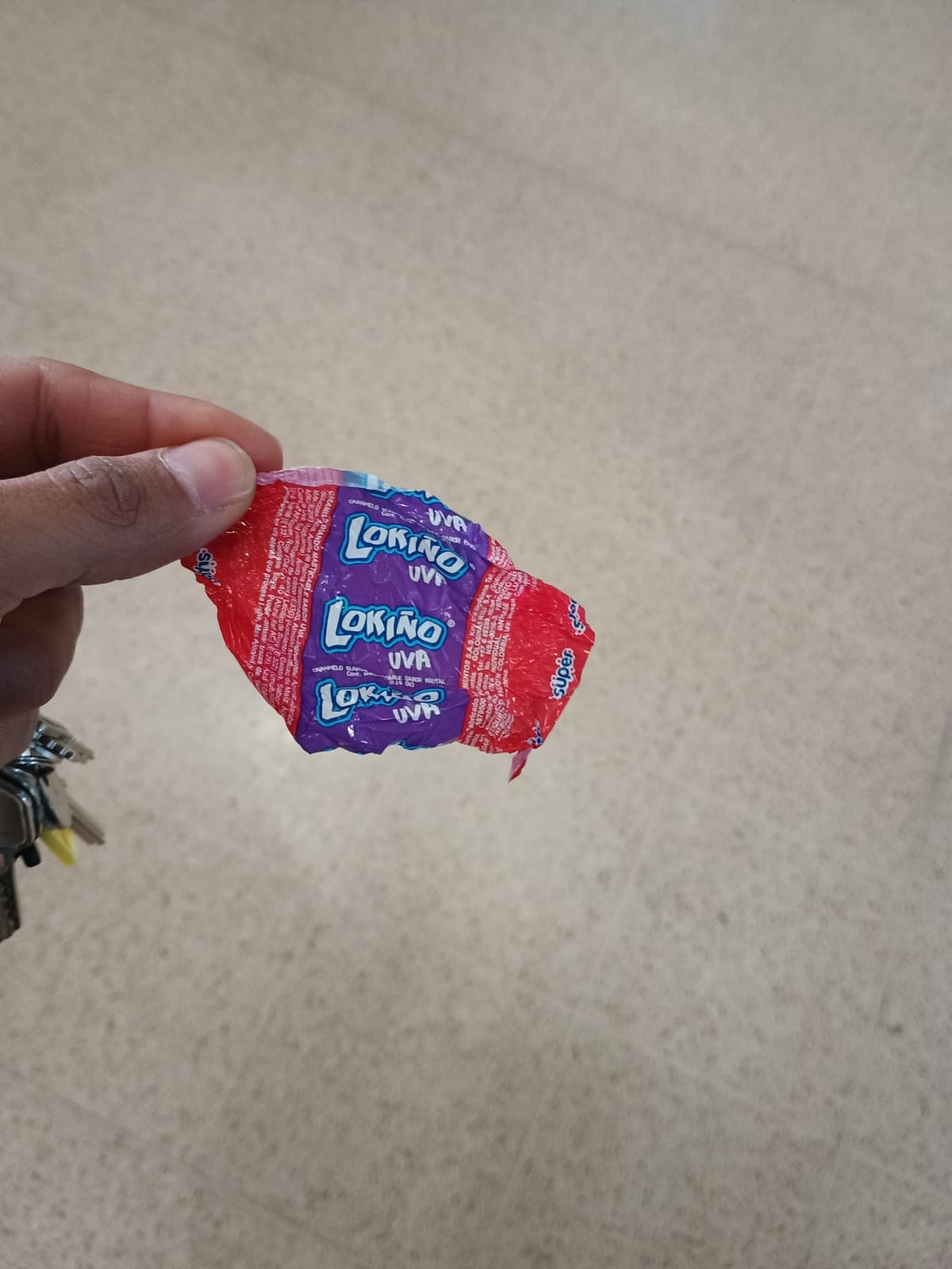Ordinario: (177, 465, 597, 786)
